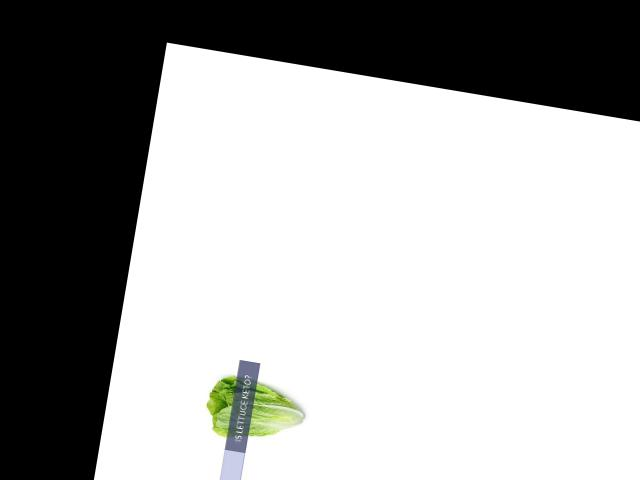lettuce: (202, 367, 319, 453)
